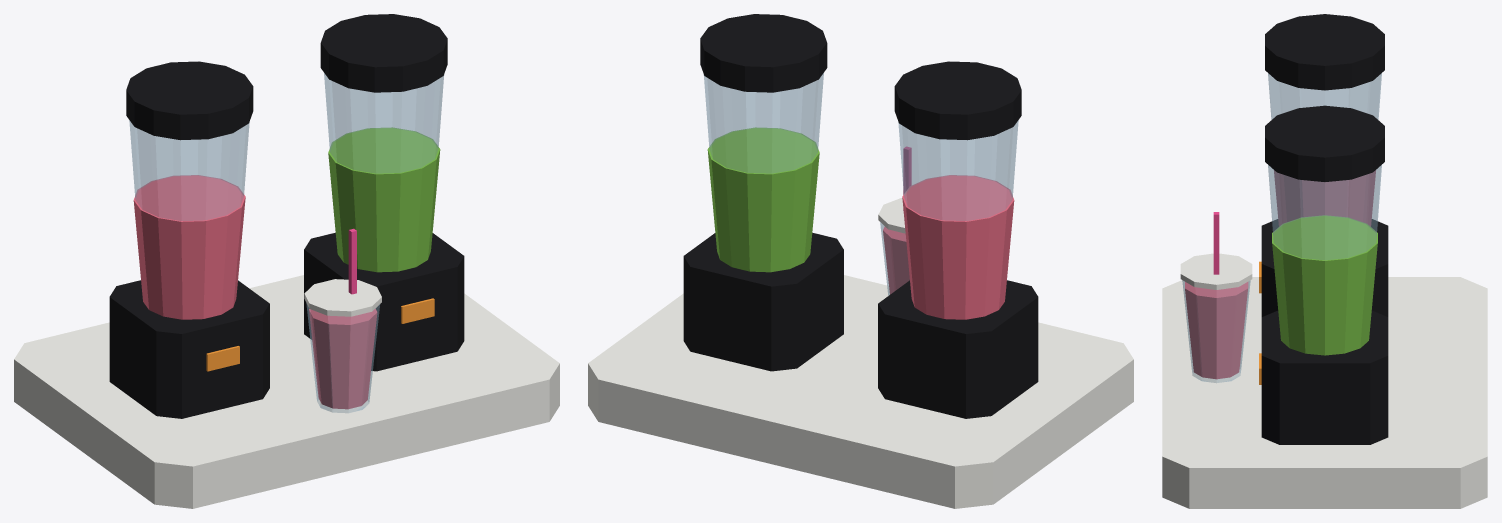
File: blender_station.obj
3 views of the same model, side by side, from view 1: azimuth 30°, elevation 25°; view 2: azimuth 150°, elevation 25°; view 3: azimuth 270°, elevation 25° (orthographic). The views are drawn at different scales.
Parts seen in each view (by area): view 1: blender_station; view 2: blender_station; view 3: blender_station.
Part boxes in pixels (x1,y1,x2,y2): blender_station: (14, 14, 559, 508); blender_station: (588, 14, 1133, 508); blender_station: (1162, 14, 1487, 508).
Bounding box in the file's own units: 0.5 × 0.4 × 0.36.
